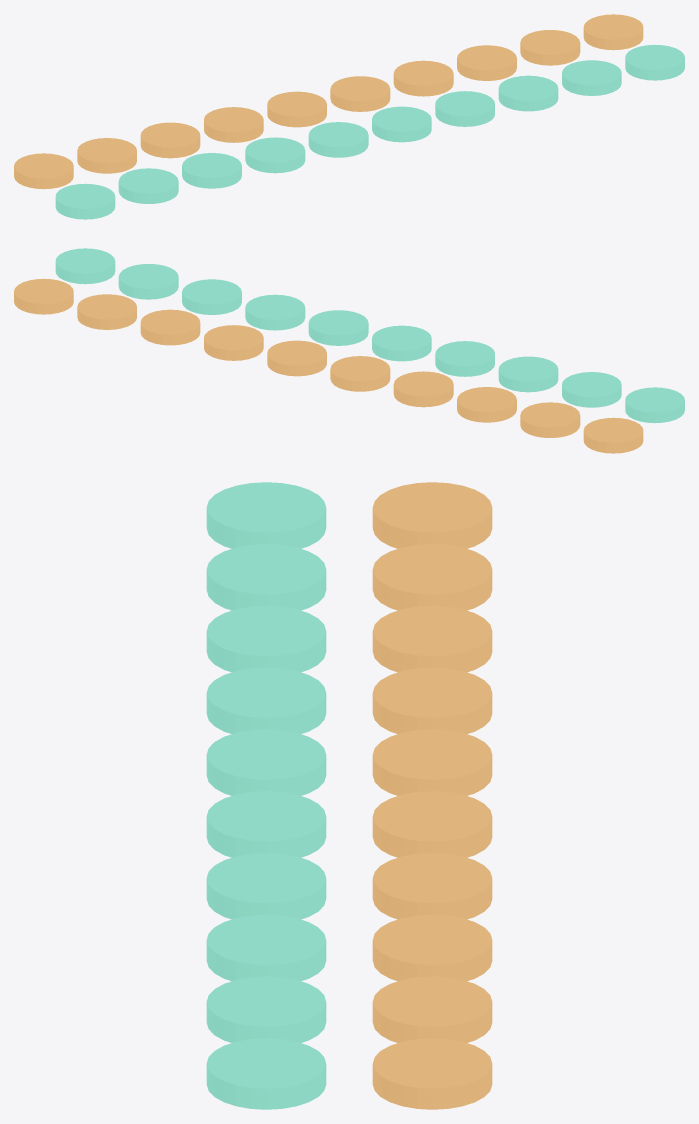
3 views of the same model, one above another, from view 1: azimuth 30°, elevation 25°; view 2: azimuth 150°, elevation 25°; view 3: azimuth 270°, elevation 25° (orthographic). The views are drawn at different scales.
Parts seen in each view (by area): view 1: coin_0_4, coin_1_5, coin_0_0, coin_1_9, coin_0_3, coin_1_6, coin_0_1, coin_1_8, coin_0_5, coin_1_4, coin_0_7, coin_1_2 (+8 smaller); view 2: coin_0_5, coin_1_4, coin_0_9, coin_1_0, coin_0_6, coin_1_3, coin_0_8, coin_1_1, coin_0_4, coin_1_5, coin_0_2, coin_1_7 (+8 smaller); view 3: coin_0_9, coin_1_9, coin_0_2, coin_1_2, coin_0_7, coin_1_7, coin_0_8, coin_1_8, coin_0_1, coin_1_1, coin_0_3, coin_0_6 (+8 smaller).
Boxes of the visible parts, x1,y1,x2,y2 form: coin_0_4: (308,122,368,157); coin_1_5: (330,76,390,111); coin_0_0: (55,183,115,219); coin_1_9: (583,14,643,50); coin_0_3: (245,137,305,173); coin_1_6: (393,60,453,96); coin_0_1: (118,168,178,203); coin_1_8: (520,30,580,65); coin_0_5: (372,106,431,142); coin_1_4: (267,91,326,127); coin_0_7: (498,75,558,111); coin_1_2: (140,122,200,158); coin_0_5: (308,310,368,345); coin_1_4: (330,356,390,391); coin_0_9: (55,248,115,284); coin_1_0: (583,417,643,453); coin_0_6: (245,294,305,330); coin_1_3: (393,371,453,407); coin_0_8: (118,264,178,299); coin_1_1: (520,402,580,437); coin_0_4: (372,325,431,361); coin_1_5: (267,340,326,376); coin_0_2: (498,356,558,392); coin_1_7: (140,309,200,345); coin_0_9: (206,1038,326,1109); coin_1_9: (372,1038,492,1109); coin_0_2: (206,605,326,672); coin_1_2: (372,605,492,672); coin_0_7: (206,914,326,981); coin_1_7: (372,914,492,981); coin_0_8: (206,976,326,1042); coin_1_8: (372,976,492,1042); coin_0_1: (206,544,326,610); coin_1_1: (372,544,492,610); coin_0_3: (206,667,326,733); coin_0_6: (206,853,326,919).
Size of the model in its own units: 2.16 by 0.035 by 0.43.
